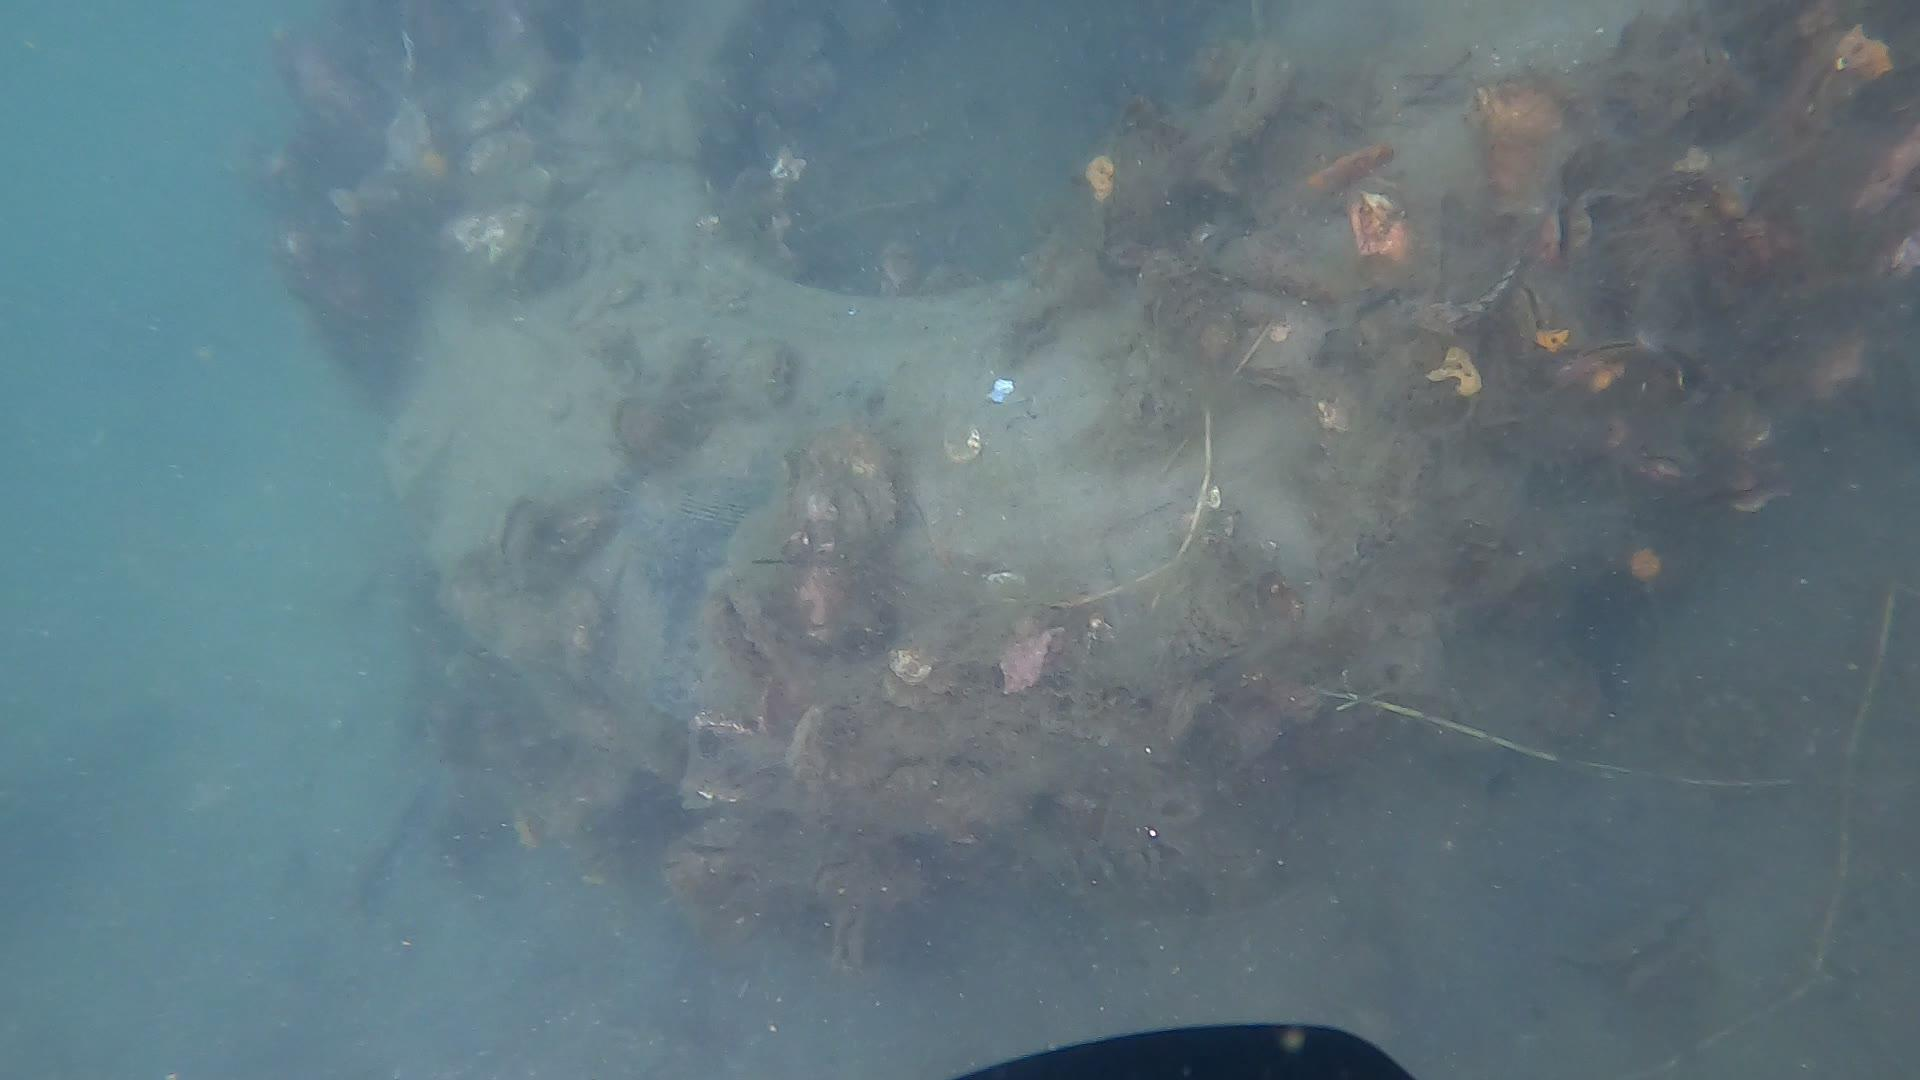tire: (378, 0, 1920, 835)
